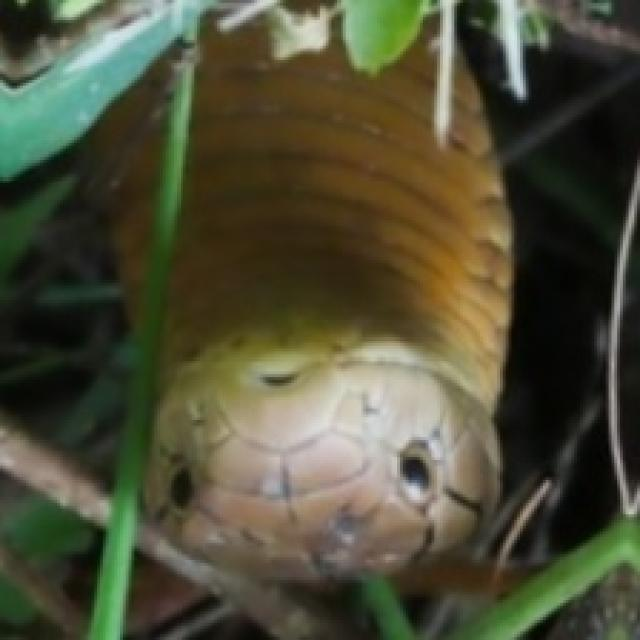king cobra: (143, 0, 637, 637), (146, 6, 509, 574), (11, 49, 180, 314), (0, 471, 97, 637), (100, 140, 154, 291), (3, 306, 91, 340)
